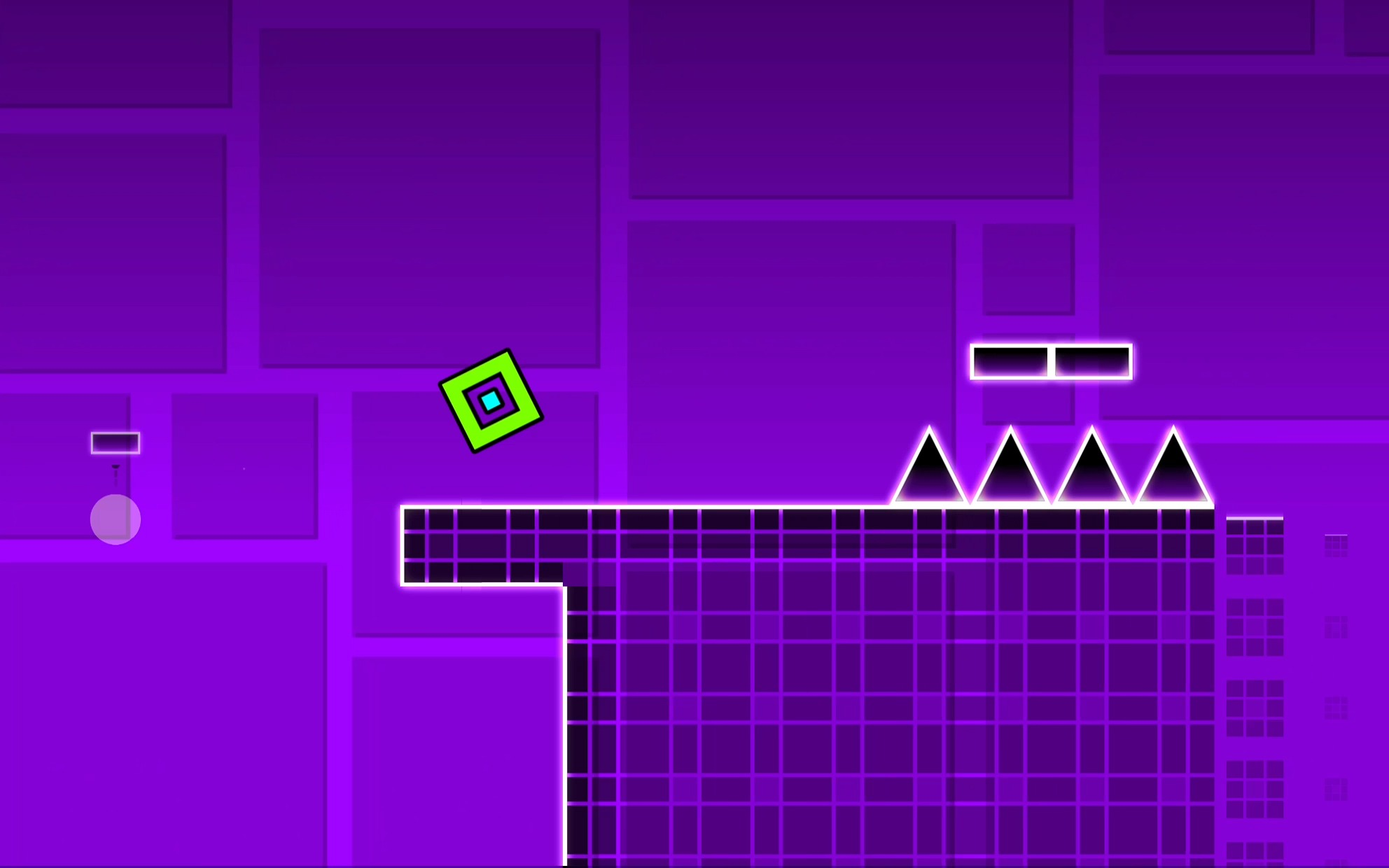Block2: (565, 508, 1288, 868), (400, 505, 564, 583)
Block3: (1048, 342, 1136, 383), (963, 342, 1049, 381), (90, 431, 141, 454)
Player: (439, 349, 543, 452)
Spike: (891, 426, 965, 502), (1137, 427, 1210, 503), (975, 428, 1045, 501), (1057, 427, 1126, 501)
